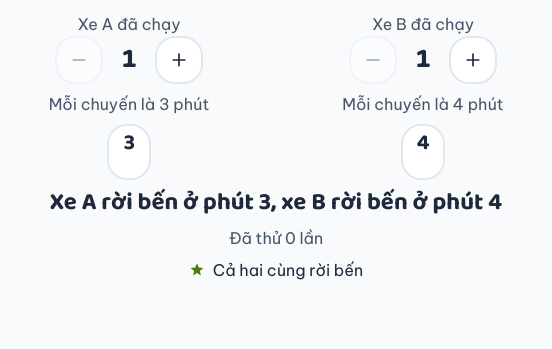
Scenario: MeetTry › reports the rounds as the child counts and says when the first shared place is reached
The width and height of the screenshot is (552, 349).
What coordinates should you click on to do the following:
click the button named "Tăng xe a đã chạy"
I would click on:
 (179, 60)
Its box is top-left (155, 36), bottom-right (203, 84).
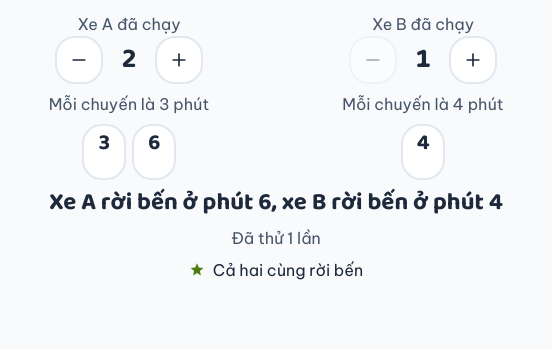
What coordinates should you click on to do the following:
click the button named "Tăng xe a đã chạy"
I would click on:
 (179, 60)
Its box is top-left (155, 36), bottom-right (203, 84).
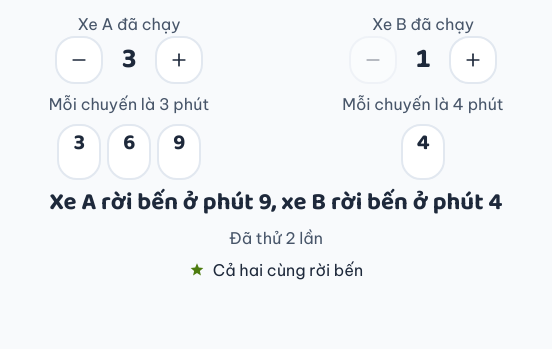
What coordinates should you click on to do the following:
click the button named "Tăng xe a đã chạy"
I would click on:
 (179, 60)
Its box is top-left (155, 36), bottom-right (203, 84).
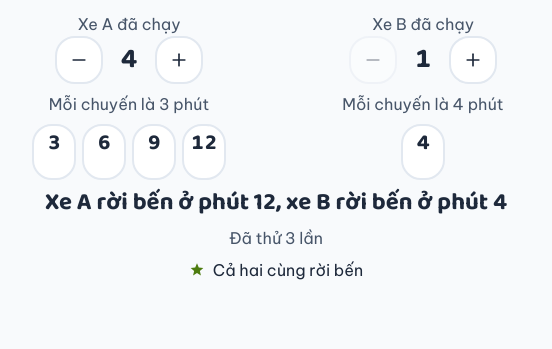
What coordinates should you click on to do the following:
click the button named "Tăng xe b đã chạy"
I would click on:
 (473, 60)
Its box is top-left (449, 36), bottom-right (497, 84).
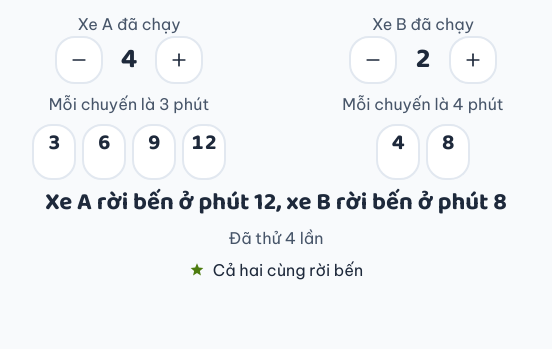
What coordinates should you click on to do the following:
click the button named "Tăng xe b đã chạy"
I would click on:
 (473, 60)
Its box is top-left (449, 36), bottom-right (497, 84).
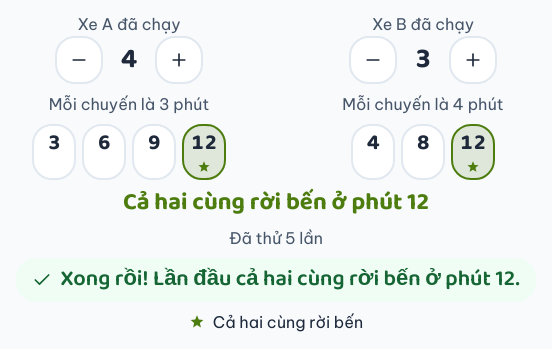
Now the text "Xong rồi! Lần đầu cả hai cùng rời bến ở phút 12." is shown, box top-left (16, 258), bottom-right (536, 302)
